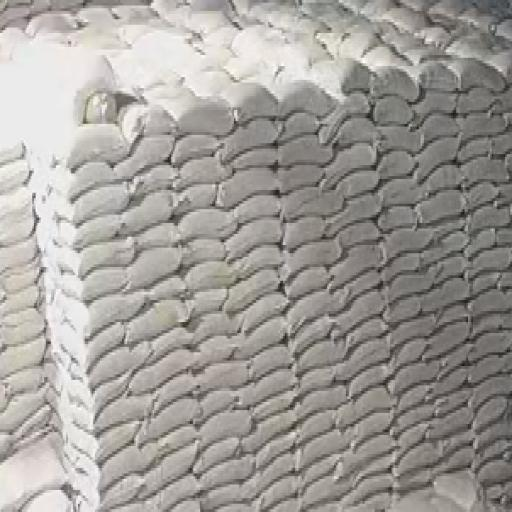Rice-bag-10: (64, 292, 144, 336), (71, 341, 151, 385), (56, 322, 122, 372), (54, 184, 127, 223), (61, 124, 129, 165), (161, 96, 232, 135), (58, 239, 134, 275), (127, 300, 188, 341), (220, 118, 278, 160), (49, 162, 114, 198), (120, 190, 173, 234), (225, 267, 278, 311), (131, 350, 192, 388), (115, 135, 171, 176), (227, 217, 281, 259), (320, 94, 368, 140), (146, 396, 198, 438), (310, 58, 370, 94), (336, 289, 383, 333), (222, 83, 276, 121), (219, 168, 276, 204), (63, 267, 125, 300), (127, 248, 180, 286), (326, 143, 375, 184), (332, 245, 381, 286), (200, 407, 251, 446), (102, 446, 154, 484), (119, 105, 175, 140), (285, 239, 339, 275), (236, 292, 287, 330), (280, 80, 332, 116), (281, 187, 342, 217), (59, 215, 119, 245), (341, 339, 388, 377), (329, 193, 380, 228), (451, 58, 504, 91), (420, 278, 468, 314), (417, 138, 458, 179), (241, 317, 285, 355), (244, 369, 293, 402), (176, 157, 229, 187), (278, 135, 331, 165), (180, 209, 236, 237), (371, 66, 417, 99), (420, 231, 466, 264), (290, 289, 331, 325), (232, 245, 281, 275), (419, 190, 463, 223), (385, 228, 431, 259), (156, 374, 195, 410), (426, 322, 468, 355), (412, 61, 458, 91), (283, 215, 324, 248), (293, 317, 331, 352), (185, 262, 234, 289), (171, 135, 219, 162), (200, 361, 248, 388), (461, 157, 507, 184), (234, 195, 278, 223), (253, 344, 290, 377), (132, 165, 175, 193), (287, 267, 327, 297), (414, 91, 454, 121), (388, 273, 432, 300), (151, 328, 190, 358), (197, 336, 236, 366), (346, 317, 385, 347), (193, 311, 234, 339), (298, 341, 339, 369), (337, 220, 378, 248), (336, 116, 378, 143), (336, 168, 378, 195), (390, 317, 432, 344), (459, 113, 504, 138), (280, 110, 317, 140), (183, 237, 224, 264), (278, 165, 322, 190), (380, 179, 424, 204), (176, 184, 215, 212), (137, 223, 180, 248), (470, 204, 509, 231), (375, 96, 412, 124), (470, 289, 507, 317), (420, 113, 458, 140), (471, 248, 509, 275), (456, 88, 497, 113), (378, 151, 414, 179), (383, 253, 419, 281), (231, 146, 276, 168), (202, 388, 234, 418), (380, 127, 420, 151), (346, 270, 380, 297), (385, 295, 419, 322), (426, 165, 461, 190), (429, 256, 463, 281), (147, 275, 185, 297), (192, 289, 225, 314), (378, 206, 414, 228), (466, 182, 497, 206), (458, 138, 488, 160), (468, 228, 493, 253), (437, 303, 466, 322), (490, 127, 510, 154), (473, 273, 498, 292), (493, 85, 510, 110), (497, 184, 510, 201), (497, 228, 510, 242)
pile: (0, 0, 510, 509)
